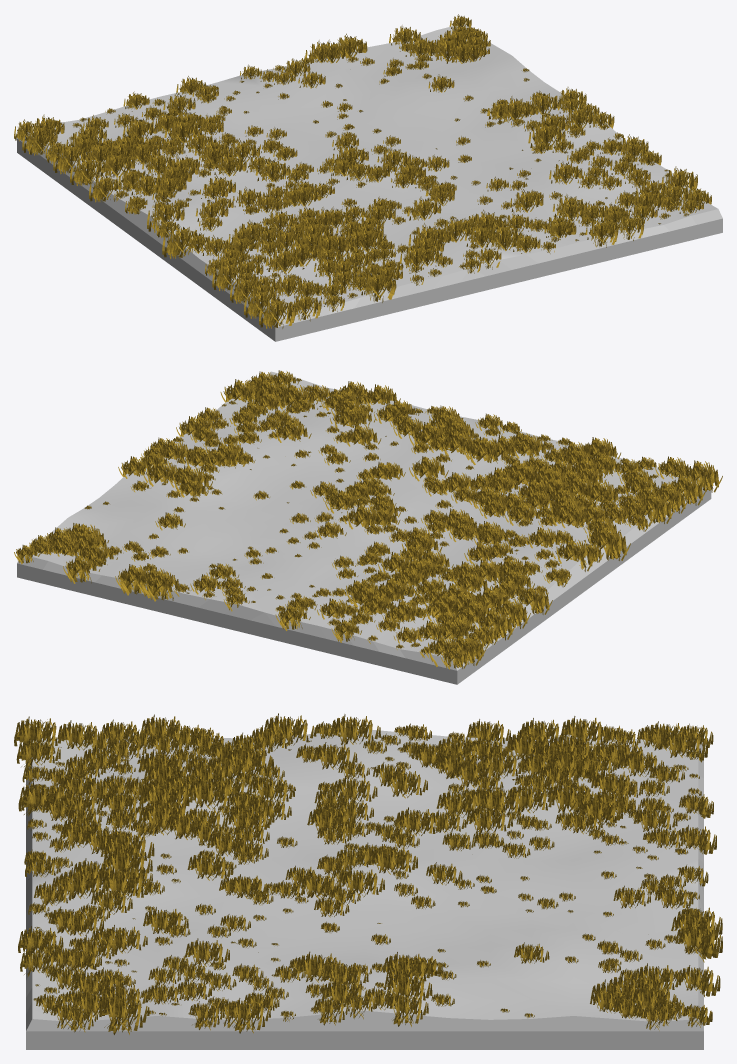
The model's file is WheatFieldGround.fbx.
The picture shows the model from 3 angles, top to bottom: view 1: azimuth 30°, elevation 25°; view 2: azimuth 150°, elevation 25°; view 3: azimuth 270°, elevation 25°; orthographic projection. The views are drawn at different scales.
Parts seen in each view (by area): view 1: Ground, GrassPlain|grass|Dupli|555, GrassPlain|grass|Dupli|543, GrassPlain|grass|Dupli|282, GrassPlain|grass|Dupli|541, GrassPlain|grass|Dupli|660, GrassPlain|grass|Dupli|560, GrassPlain|grass|Dupli|171, GrassPlain|grass|Dupli|552, GrassPlain|grass|Dupli|167, GrassPlain|grass|Dupli|510, GrassPlain|grass|Dupli|305 (+5 smaller); view 2: Ground, GrassPlain|grass|Dupli|543, GrassPlain|grass|Dupli|555, GrassPlain|grass|Dupli|282, GrassPlain|grass|Dupli|541, GrassPlain|grass|Dupli|361, GrassPlain|grass|Dupli|515, GrassPlain|grass|Dupli|660, GrassPlain|grass|Dupli|74, GrassPlain|grass|Dupli|552, GrassPlain|grass|Dupli|167, GrassPlain|grass|Dupli|359 (+14 smaller); view 3: Ground, GrassPlain|grass|Dupli|767, GrassPlain|grass|Dupli|555, GrassPlain|grass|Dupli|503, GrassPlain|grass|Dupli|543, GrassPlain|grass|Dupli|67, GrassPlain|grass|Dupli|541, GrassPlain|grass|Dupli|732, GrassPlain|grass|Dupli|74, GrassPlain|grass|Dupli|761, GrassPlain|grass|Dupli|745, GrassPlain|grass|Dupli|282 (+75 smaller).
Boxes of the visible parts, x1=… form: Ground: x1=17, y1=24, x2=722, y2=341; GrassPlain|grass|Dupli|555: x1=259, y1=296, x2=295, y2=328; GrassPlain|grass|Dupli|543: x1=162, y1=224, x2=201, y2=258; GrassPlain|grass|Dupli|282: x1=53, y1=142, x2=89, y2=174; GrassPlain|grass|Dupli|541: x1=147, y1=199, x2=184, y2=232; GrassPlain|grass|Dupli|660: x1=212, y1=260, x2=247, y2=290; GrassPlain|grass|Dupli|560: x1=359, y1=270, x2=395, y2=302; GrassPlain|grass|Dupli|171: x1=70, y1=155, x2=104, y2=185; GrassPlain|grass|Dupli|552: x1=243, y1=287, x2=279, y2=318; GrassPlain|grass|Dupli|167: x1=89, y1=173, x2=121, y2=202; GrassPlain|grass|Dupli|510: x1=266, y1=246, x2=303, y2=274; GrassPlain|grass|Dupli|305: x1=497, y1=96, x2=533, y2=122; Ground: x1=17, y1=371, x2=711, y2=684; GrassPlain|grass|Dupli|543: x1=584, y1=526, x2=630, y2=560; GrassPlain|grass|Dupli|555: x1=679, y1=460, x2=722, y2=492; GrassPlain|grass|Dupli|282: x1=473, y1=608, x2=515, y2=640; GrassPlain|grass|Dupli|541: x1=552, y1=539, x2=595, y2=571; GrassPlain|grass|Dupli|361: x1=142, y1=570, x2=179, y2=601; GrassPlain|grass|Dupli|515: x1=464, y1=436, x2=510, y2=464; GrassPlain|grass|Dupli|660: x1=636, y1=493, x2=674, y2=523; GrassPlain|grass|Dupli|74: x1=343, y1=503, x2=386, y2=529; GrassPlain|grass|Dupli|552: x1=667, y1=474, x2=706, y2=505; GrassPlain|grass|Dupli|167: x1=514, y1=586, x2=552, y2=614; GrassPlain|grass|Dupli|359: x1=63, y1=555, x2=100, y2=583; Ground: x1=26, y1=729, x2=703, y2=1049; GrassPlain|grass|Dupli|767: x1=99, y1=994, x2=149, y2=1034; GrassPlain|grass|Dupli|555: x1=14, y1=716, x2=64, y2=746; GrassPlain|grass|Dupli|503: x1=186, y1=776, x2=236, y2=809; GrassPlain|grass|Dupli|543: x1=263, y1=713, x2=316, y2=746; GrassPlain|grass|Dupli|67: x1=675, y1=924, x2=722, y2=962; GrassPlain|grass|Dupli|541: x1=330, y1=714, x2=380, y2=744; GrassPlain|grass|Dupli|732: x1=99, y1=866, x2=150, y2=899; GrassPlain|grass|Dupli|74: x1=368, y1=844, x2=417, y2=874; GrassPlain|grass|Dupli|761: x1=228, y1=998, x2=270, y2=1033; GrassPlain|grass|Dupli|745: x1=57, y1=867, x2=108, y2=898; GrassPlain|grass|Dupli|282: x1=561, y1=716, x2=609, y2=744.
Bounding box in the file's own units: 2227 × 195 × 2208.
